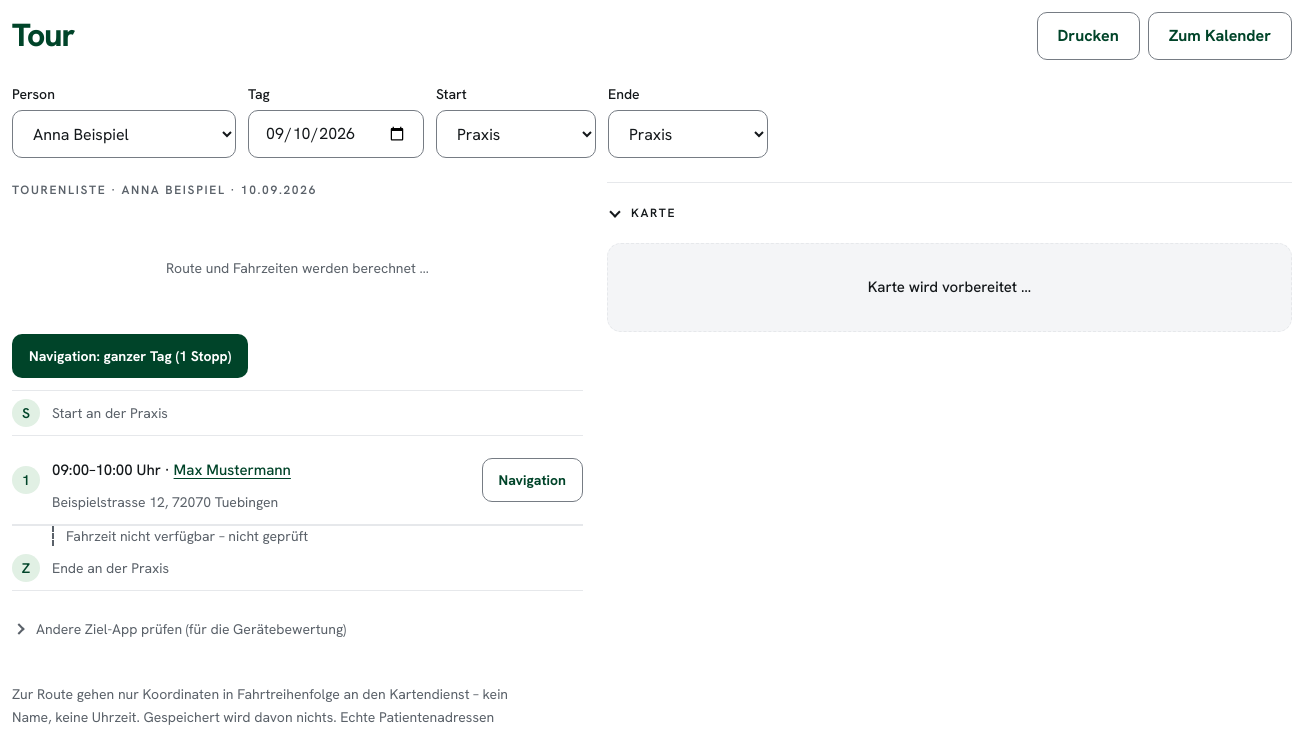
TourenPage: Garage und Rueckweg (UBK-015, ANN-240) › nimmt ohne Garage die Praxis und laesst das Ende am letzten Besuch zu
Expected: the link "Max Mustermann" is shown, [174, 460, 291, 480]
Expected: the dropdown labelled "Start" shows "Praxis", [436, 110, 596, 158]
Select "Letzter Besuch" in the dropdown labelled "Ende" at (688, 134), box [608, 110, 768, 158]
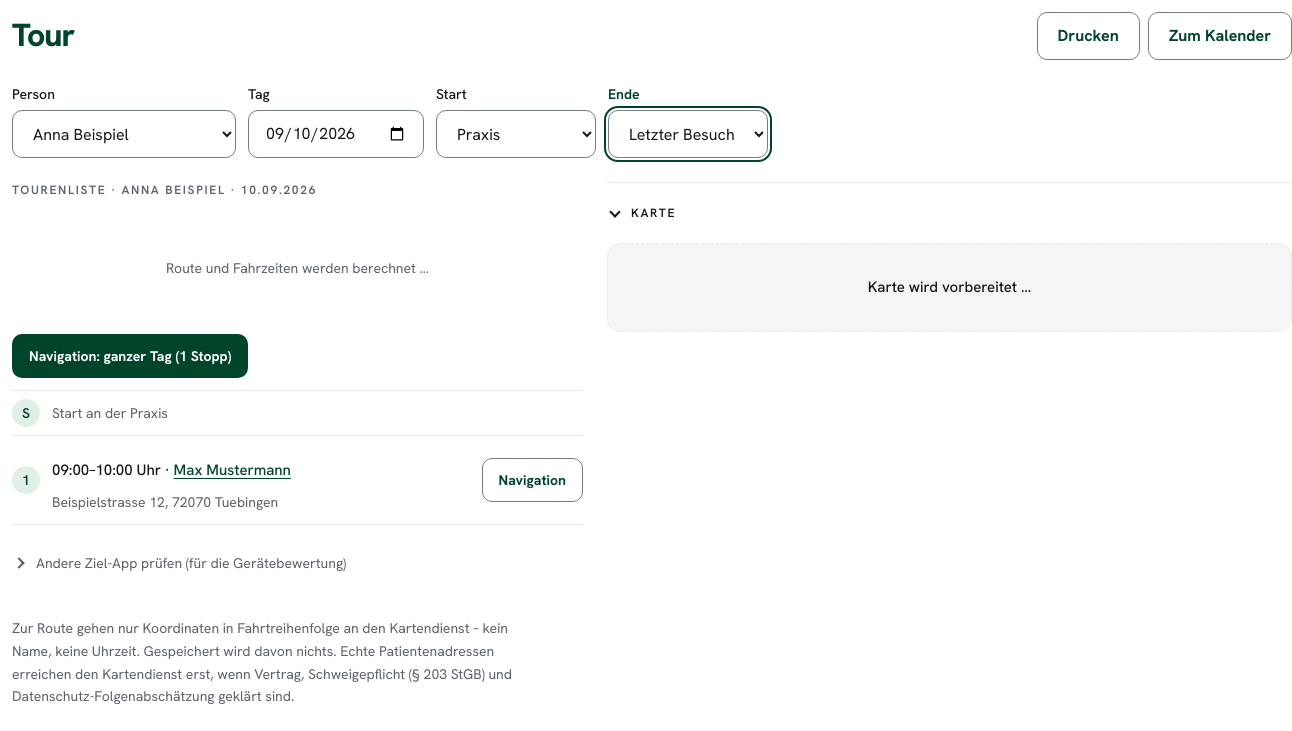
Expected: the list item with test id "tour-ende" is gone
